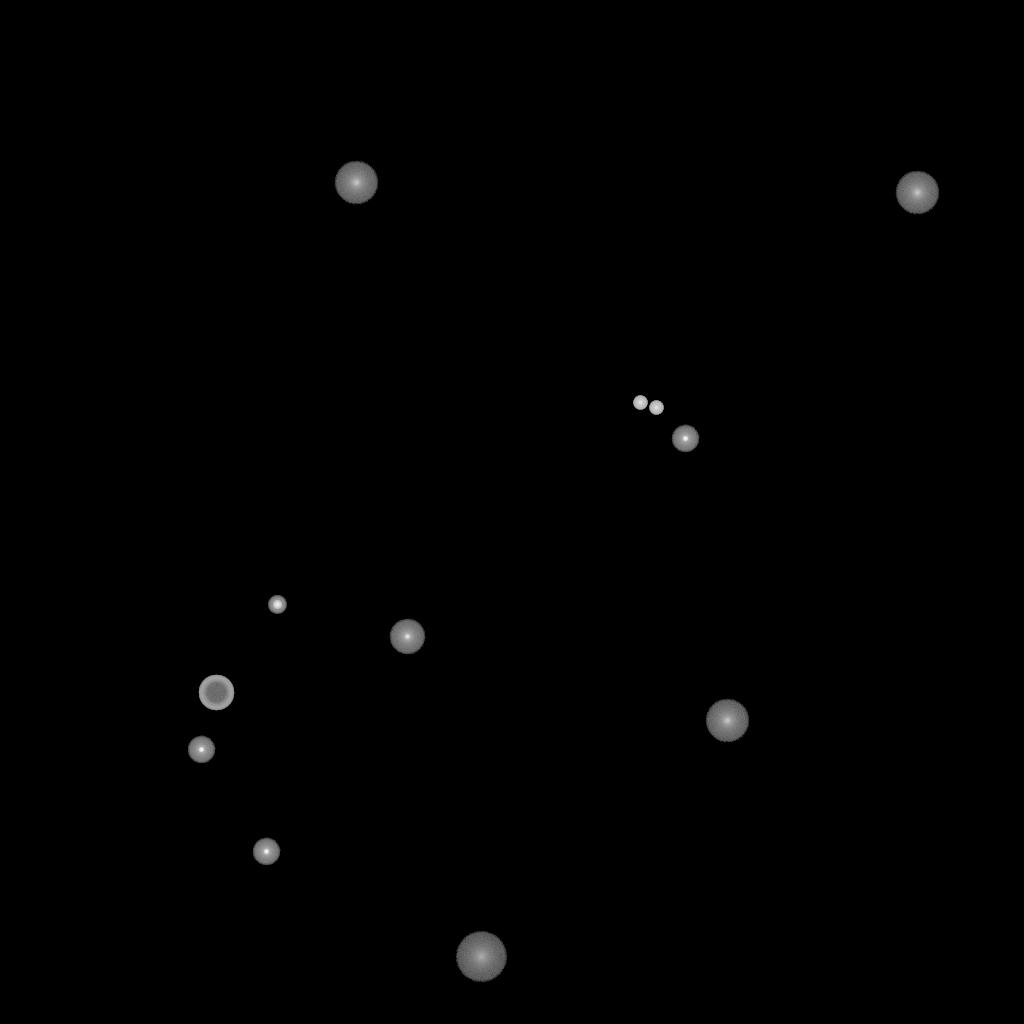depth:-10: (671, 425, 699, 453), (187, 736, 215, 764), (252, 838, 280, 866)
depth:-20: (268, 596, 286, 614)
depth:-30: (649, 401, 663, 415), (633, 396, 647, 410)
depth:-60: (198, 675, 234, 711)
depth:0: (389, 619, 425, 655)
depth:10: (334, 161, 378, 205), (705, 699, 749, 743), (895, 171, 939, 215)
depth:20: (455, 932, 507, 982)
